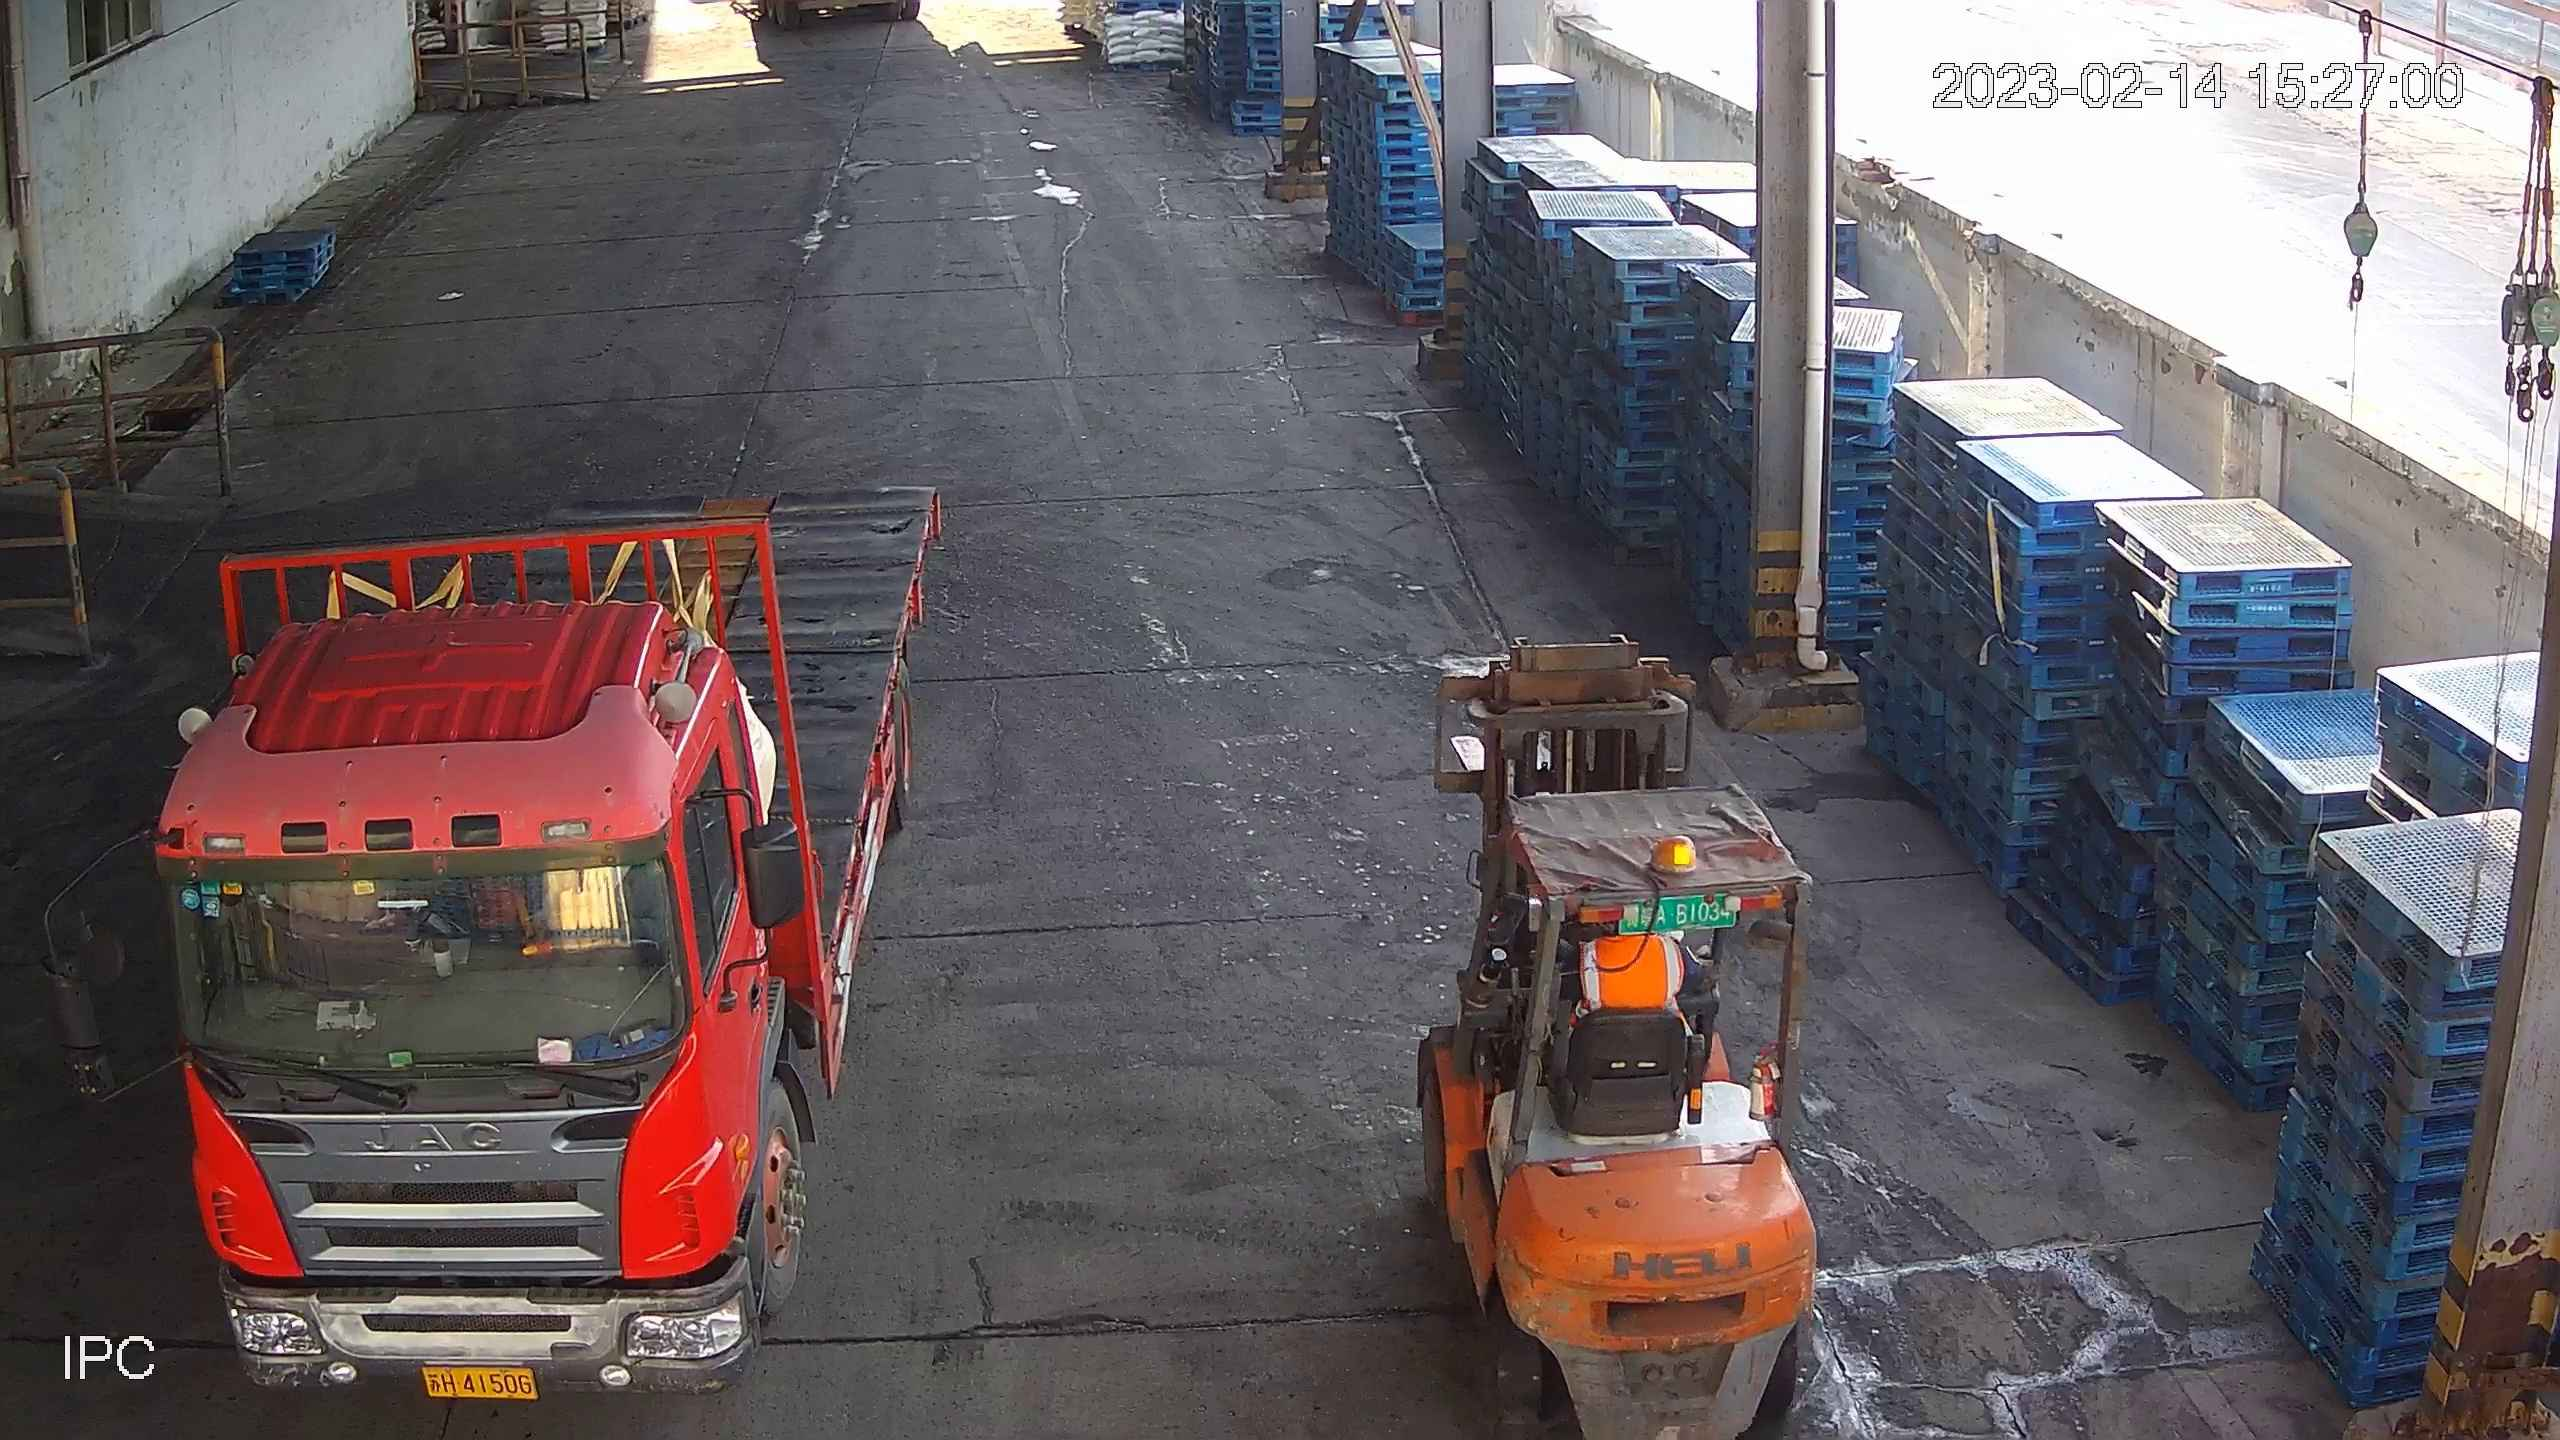truck: (37, 431, 944, 1401)
